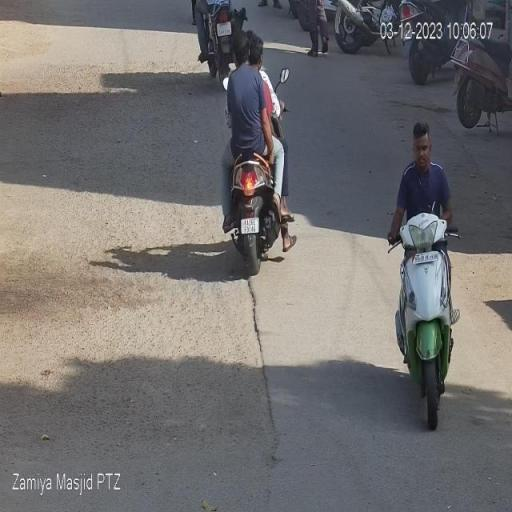tripple riding: (219, 26, 290, 160)
